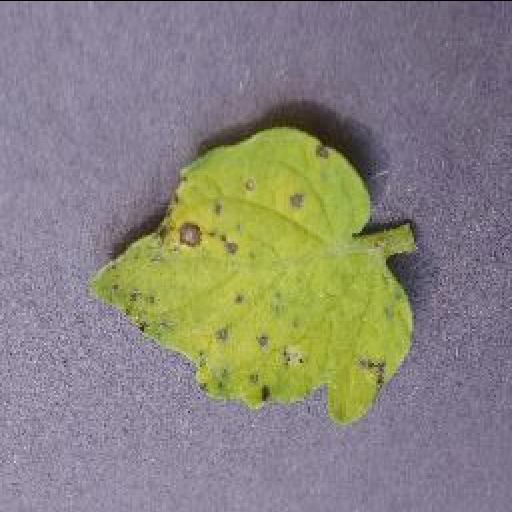disease_tomato: (86, 125, 410, 426)
